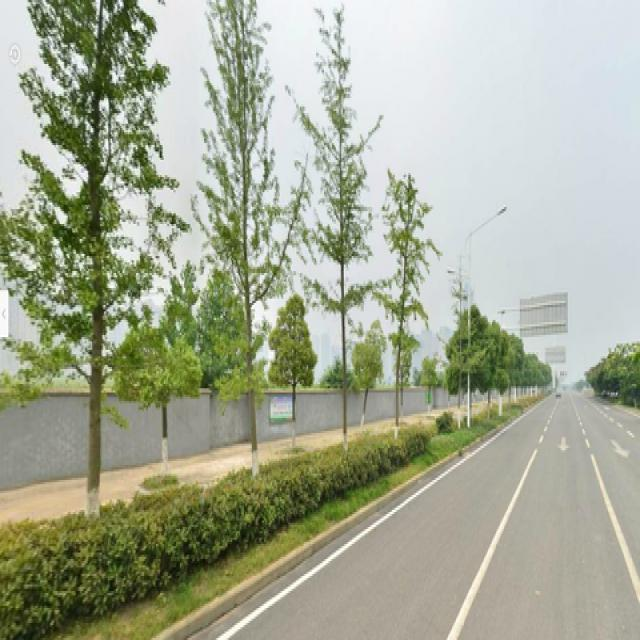gink: (304, 2, 387, 450)
